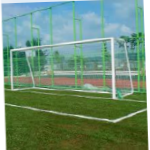goals: (7, 36, 135, 101)
